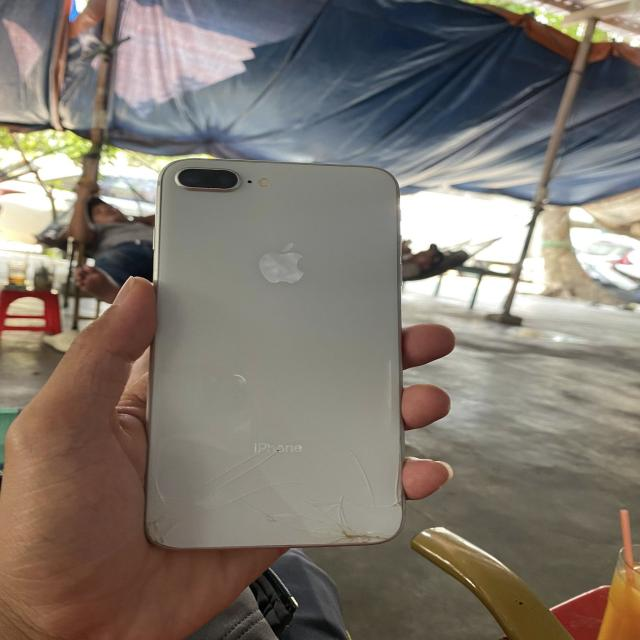physical_damage: (270, 492, 355, 552), (343, 448, 402, 515), (186, 466, 262, 518), (240, 447, 310, 485), (140, 458, 181, 518), (358, 516, 407, 552), (142, 519, 191, 552)
